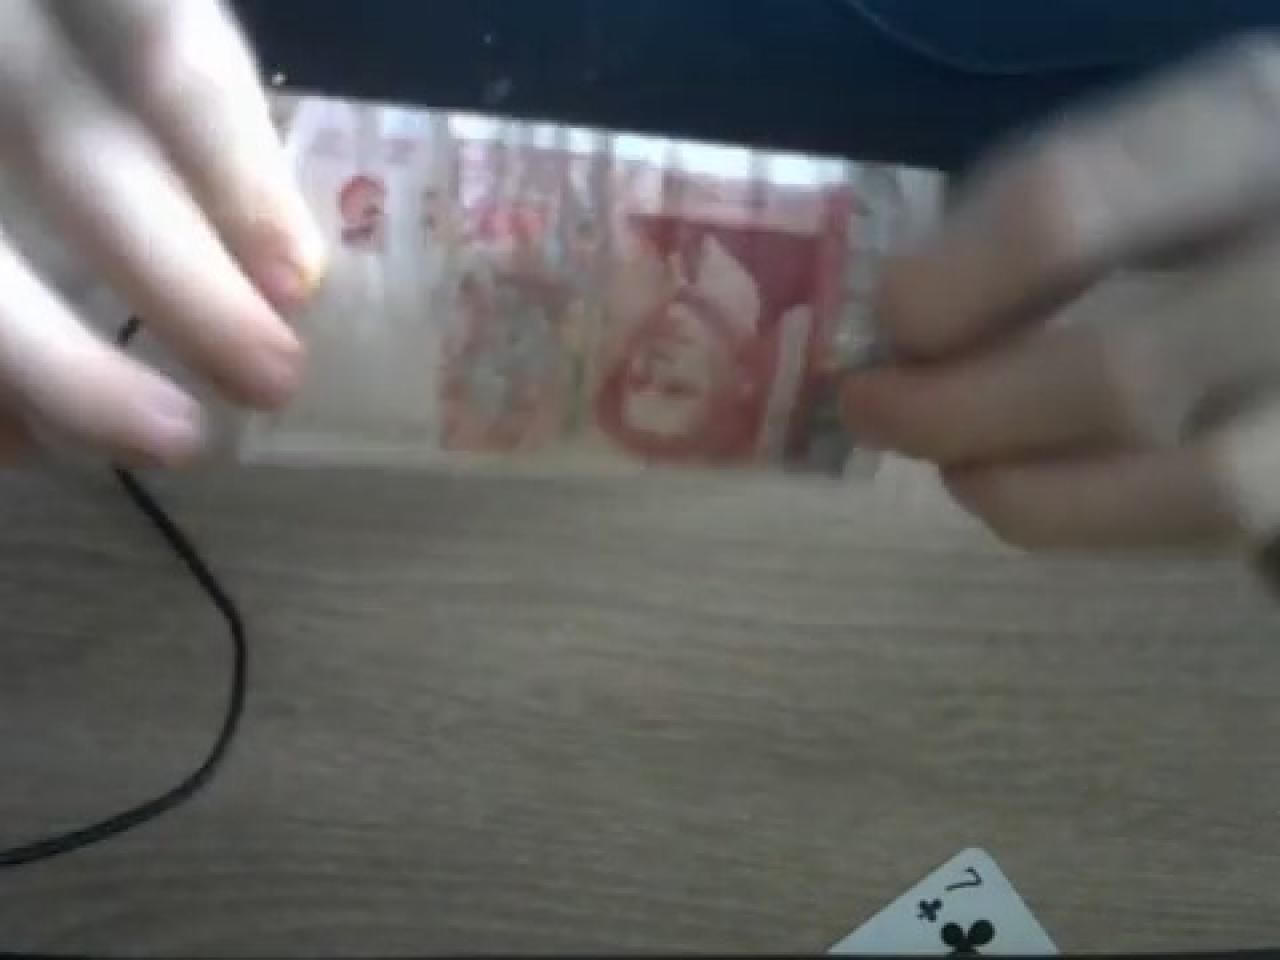5leva: (248, 96, 854, 469)
